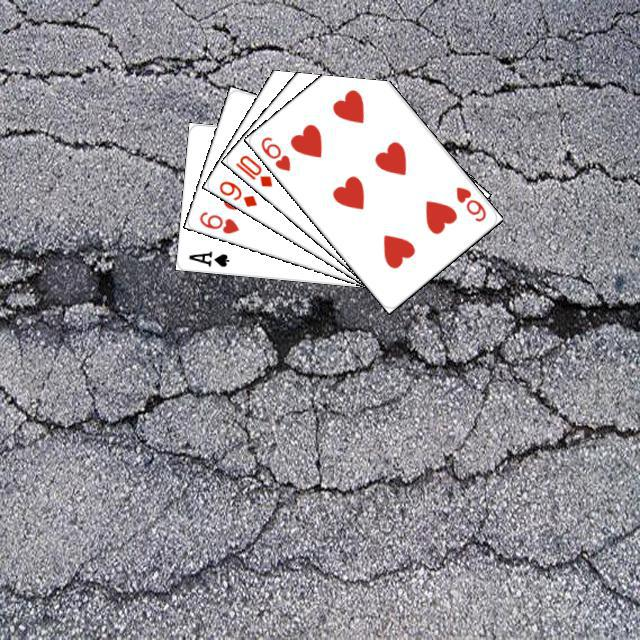10d: (230, 150, 274, 189)
6h: (451, 182, 488, 224), (256, 132, 292, 173), (194, 206, 241, 236)
9d: (214, 176, 259, 209)
As: (184, 246, 231, 268)
